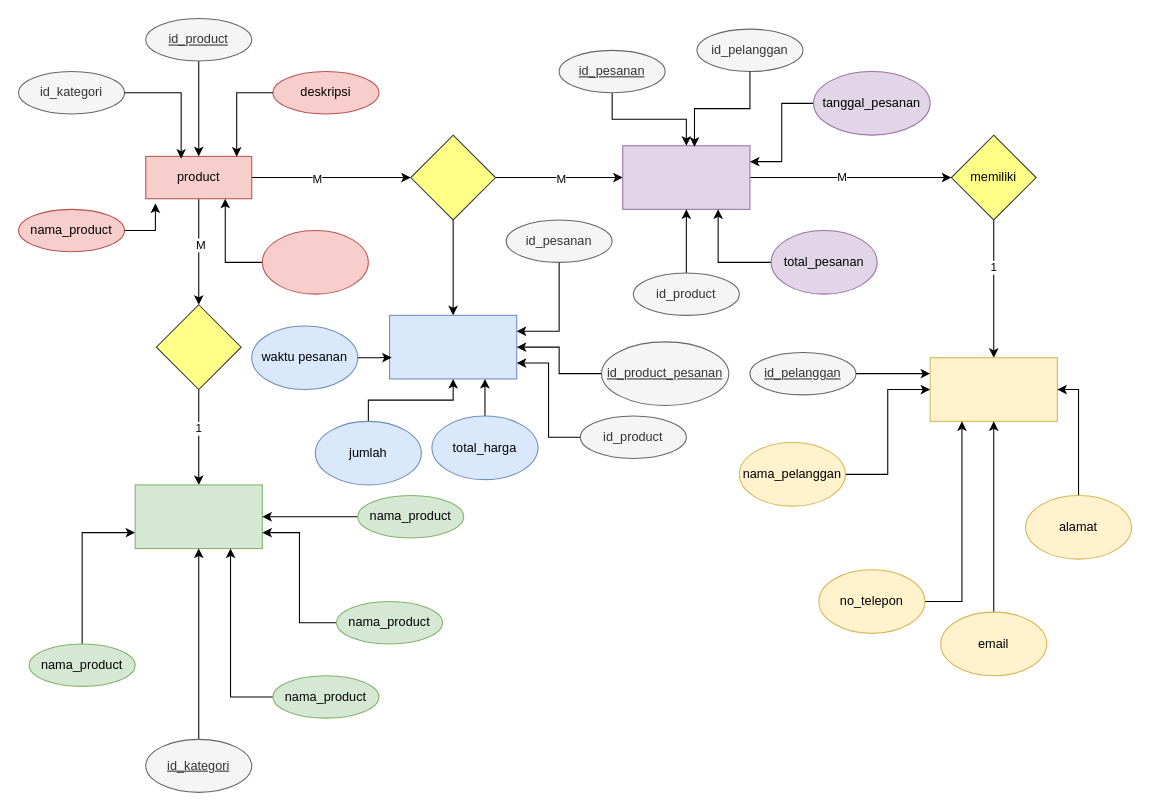
Some shapes in this 1150 by 811 pixel diagram are drawn without their labels. Here are the shapes that lost their labels. From the top down, the centre of each, then its label:
the point at 453,177: Dibeli
the point at 686,177: pesanan
the point at 314,261: harga_product
the point at 198,347: Termasuk
the point at 452,346: product_pesanan
the point at 993,389: pelanggan
the point at 198,516: kategori
